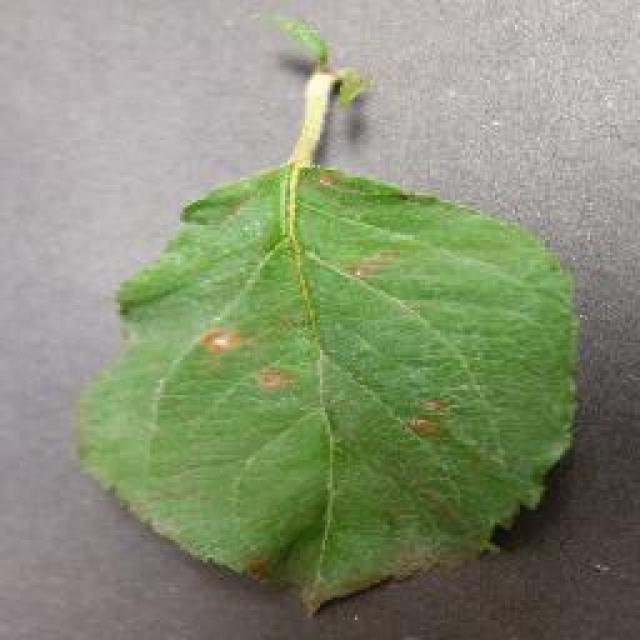apple rust disease: (72, 10, 582, 618)
